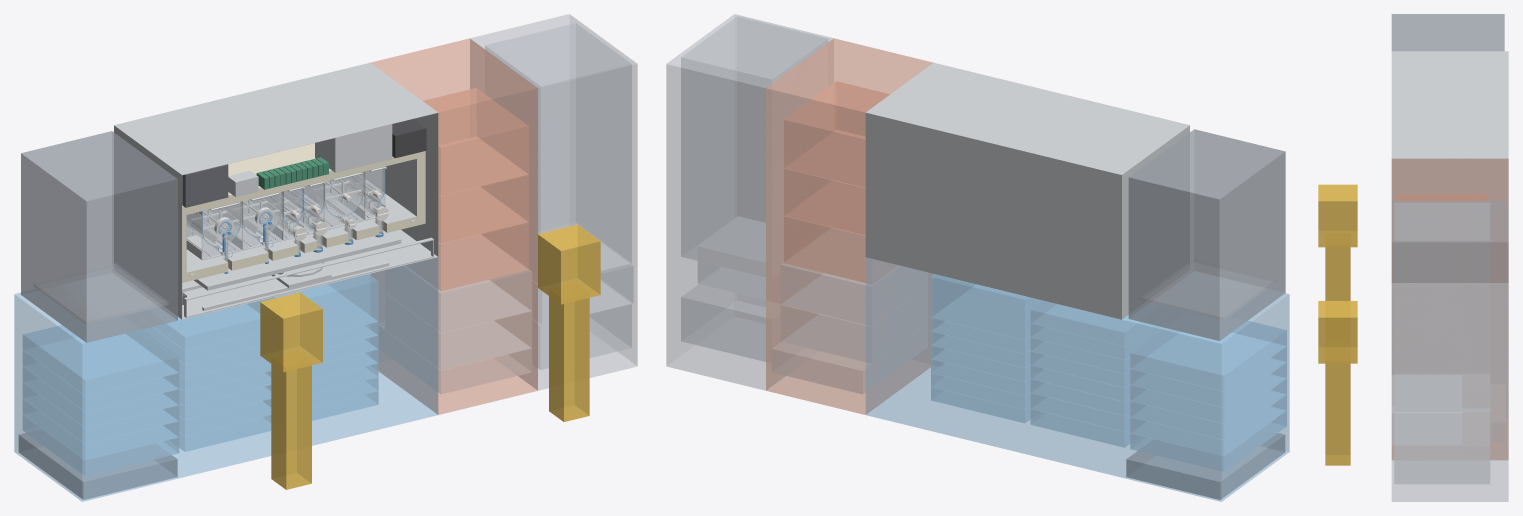
File: hat_v14.glb
3 views of the same model, side by side, from view 1: azimuth 30°, elevation 25°; view 2: azimuth 150°, elevation 25°; view 3: azimuth 270°, elevation 25° (orthographic). The views are drawn at different scales.
Parts seen in each view (by area): view 1: B_KABIN, TOPPING_MODUL__sac, D_KABIN, E_KABIN, PRESS, E_SARJOR, FIRIN_3, CEK_K1_hamur_6, TOPPING_MODUL__pu, B_SOGUTMA, ROBOT_2, ROBOT_1 (+41 smaller); view 2: B_KABIN, TOPPING_MODUL__sac, D_KABIN, E_KABIN, PRESS, E_SARJOR, FIRIN_3, CEK_K1_hamur_6, B_SOGUTMA, E_MEK, PRESS_PLAKA, CEK_K3_icecek_1 (+25 smaller); view 3: E_KABIN, TOPPING_MODUL__sac, E_SARJOR, D_KABIN, E_MEK, PRESS, ROBOT_2, ROBOT_1_KOL, ROBOT_2_KOL, E_AGZ, ROBOT_1, FIRIN_3.
Boxes of the visible parts, x1,y1,x2,y2 form: B_KABIN: [14, 257, 438, 501]; TOPPING_MODUL__sac: [114, 62, 438, 319]; D_KABIN: [370, 38, 537, 414]; E_KABIN: [470, 14, 637, 390]; PRESS: [21, 131, 177, 342]; E_SARJOR: [485, 23, 631, 270]; FIRIN_3: [423, 88, 528, 195]; CEK_K1_hamur_6: [23, 325, 178, 395]; TOPPING_MODUL__pu: [182, 143, 425, 282]; B_SOGUTMA: [18, 429, 177, 499]; ROBOT_2: [549, 283, 589, 421]; ROBOT_1: [271, 351, 311, 489]; B_KABIN: [865, 257, 1289, 501]; TOPPING_MODUL__sac: [865, 62, 1189, 319]; D_KABIN: [766, 38, 933, 414]; E_KABIN: [666, 14, 833, 390]; PRESS: [1128, 129, 1285, 340]; E_SARJOR: [681, 16, 827, 277]; FIRIN_3: [784, 81, 889, 187]; CEK_K1_hamur_6: [1130, 321, 1286, 391]; B_SOGUTMA: [1126, 429, 1285, 499]; E_MEK: [681, 284, 765, 361]; PRESS_PLAKA: [1141, 259, 1275, 320]; CEK_K3_icecek_1: [931, 274, 1042, 339]; E_KABIN: [1391, 200, 1508, 501]; TOPPING_MODUL__sac: [1391, 51, 1508, 282]; E_SARJOR: [1394, 203, 1489, 411]; D_KABIN: [1392, 158, 1508, 459]; E_MEK: [1394, 412, 1489, 483]; PRESS: [1391, 14, 1504, 51]; ROBOT_2: [1325, 363, 1350, 465]; ROBOT_1_KOL: [1318, 184, 1357, 247]; ROBOT_2_KOL: [1318, 301, 1357, 363]; E_AGZ: [1392, 375, 1461, 444]; ROBOT_1: [1325, 234, 1350, 300]; FIRIN_3: [1397, 195, 1487, 200].
Bounding box in the file's own units: 3.9 × 2.03 × 1.35.
Materials: 90 (12 with a texture image).
